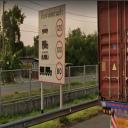speed_limit_100: (55, 39, 64, 62)
speed_limit_120: (54, 18, 65, 37)
speed_limit_80: (55, 60, 64, 82)
